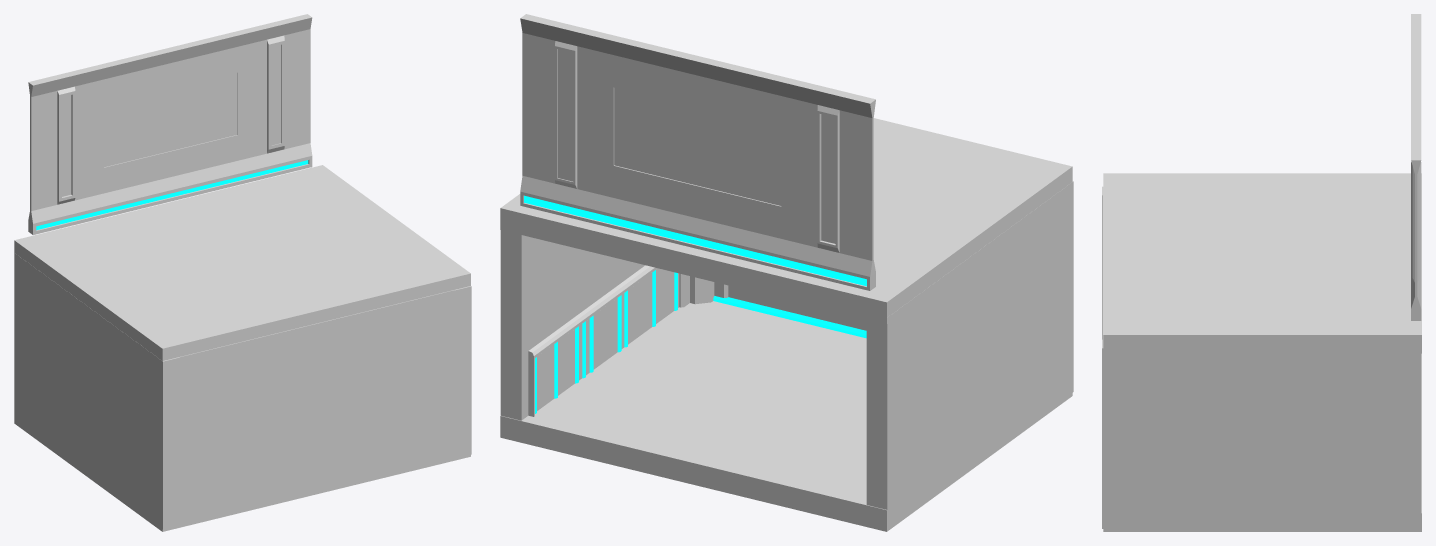
The model's file is Elevator_final.fbx.
3 renders of one model, left to right at view 1: azimuth 30°, elevation 25°; view 2: azimuth 150°, elevation 25°; view 3: azimuth 270°, elevation 25°, orthographic. The views are drawn at different scales.
Visible parts, largest first — view 1: Base_Lift, Door; view 2: Base_Lift, Door, Strengthening_1, Plintus, Lamp_wall1; view 3: Base_Lift, Door.
Part boxes in pixels (x1,y1,x2,y2): Base_Lift: (14,165,471,531); Door: (28,14,312,234); Base_Lift: (500,118,1073,531); Door: (520,14,875,290); Strengthening_1: (528,265,679,416); Plintus: (713,296,866,338); Lamp_wall1: (679,273,728,307); Base_Lift: (1102,173,1421,531); Door: (1411,14,1421,320).
Size of the model in its own units: 1199 by 1256 by 1002.
